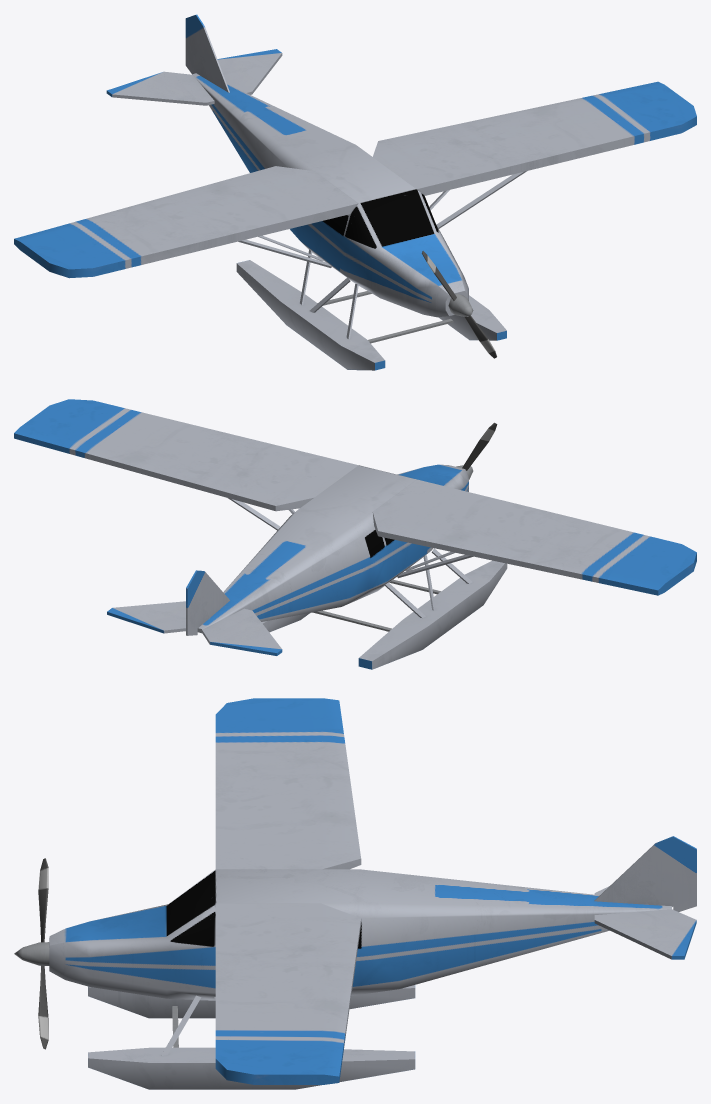
3 views of the same model, one above another, from view 1: azimuth 30°, elevation 25°; view 2: azimuth 150°, elevation 25°; view 3: azimuth 270°, elevation 25° (orthographic). The views are drawn at different scales.
Parts seen in each view (by area): view 1: floatplane; view 2: floatplane; view 3: floatplane.
Boxes of the visible parts, bbox=[...] form: floatplane: bbox=[14, 14, 696, 370]; floatplane: bbox=[14, 399, 696, 669]; floatplane: bbox=[14, 698, 696, 1089].
Bounding box in the file's own units: 199 × 52.73 × 153.
